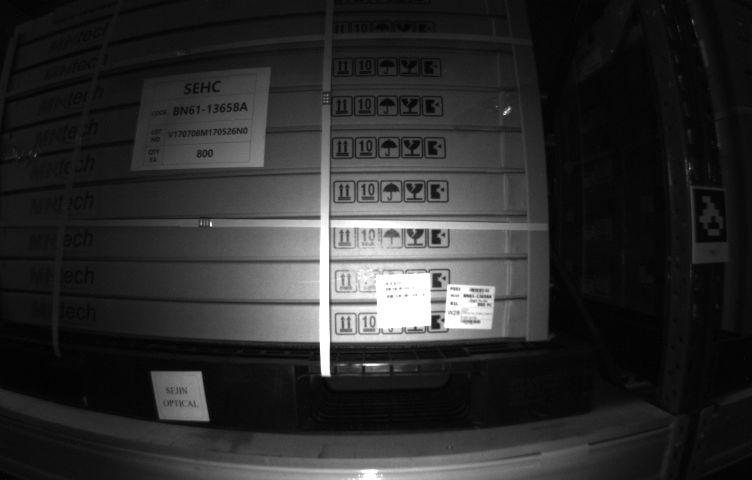True Barcode: (446, 283, 495, 328)
